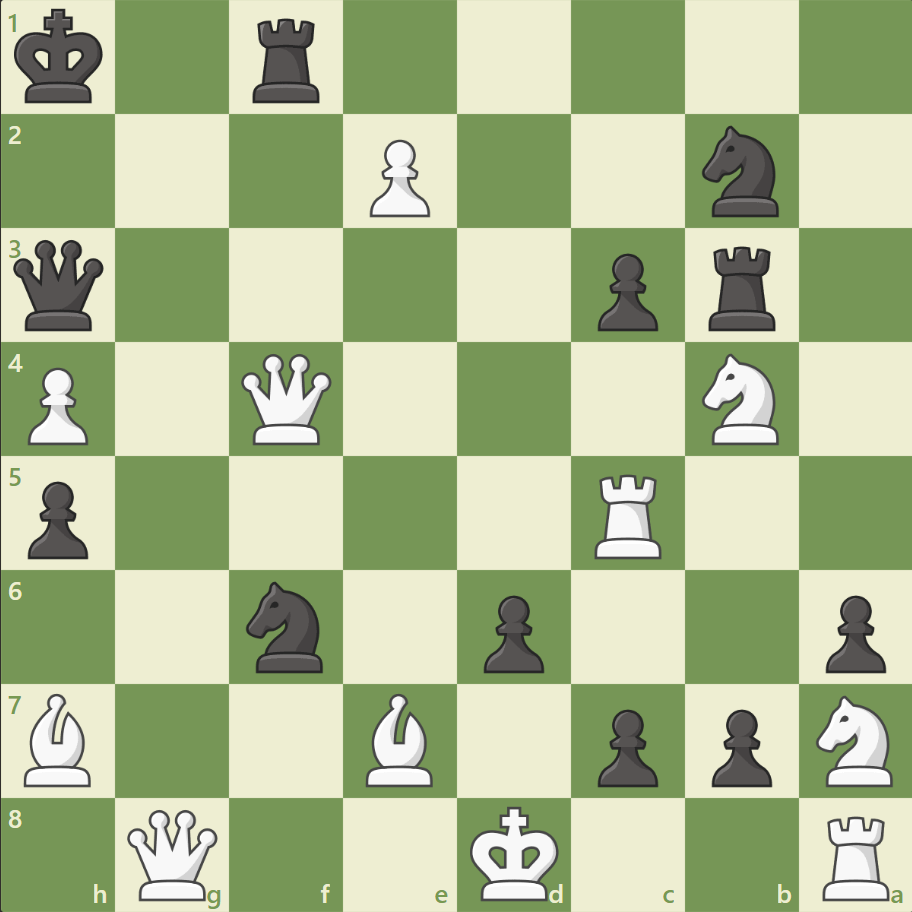B: (358, 687, 442, 790), (17, 687, 101, 790)
K: (465, 798, 565, 906)
N: (806, 688, 903, 791), (692, 348, 789, 450)
P: (20, 359, 95, 450), (361, 132, 435, 223)
Q: (237, 349, 336, 449), (124, 804, 223, 903)
R: (814, 806, 897, 904), (587, 466, 670, 563)
k: (11, 4, 111, 112)
n: (238, 575, 335, 677), (692, 121, 789, 223)
p: (701, 700, 776, 791), (474, 586, 549, 677), (20, 473, 95, 564), (588, 700, 662, 791), (815, 586, 889, 677), (588, 246, 662, 337)
q: (10, 236, 109, 335)
r: (700, 239, 783, 336), (246, 12, 329, 109)
